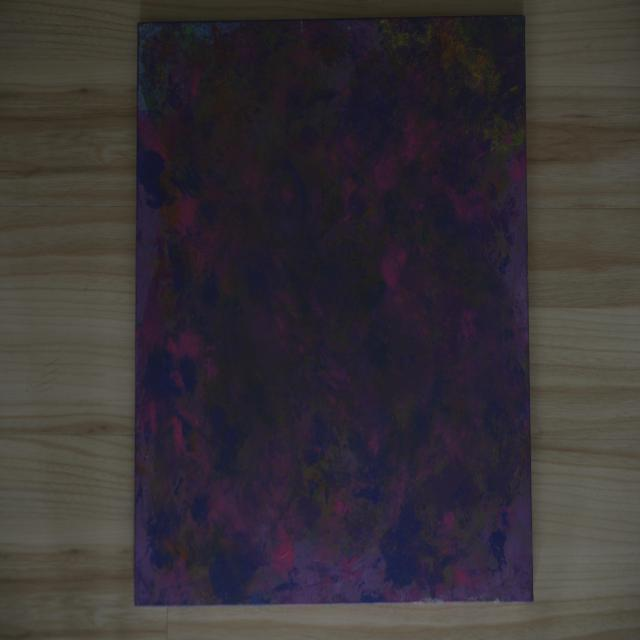painting: (135, 17, 532, 604)
